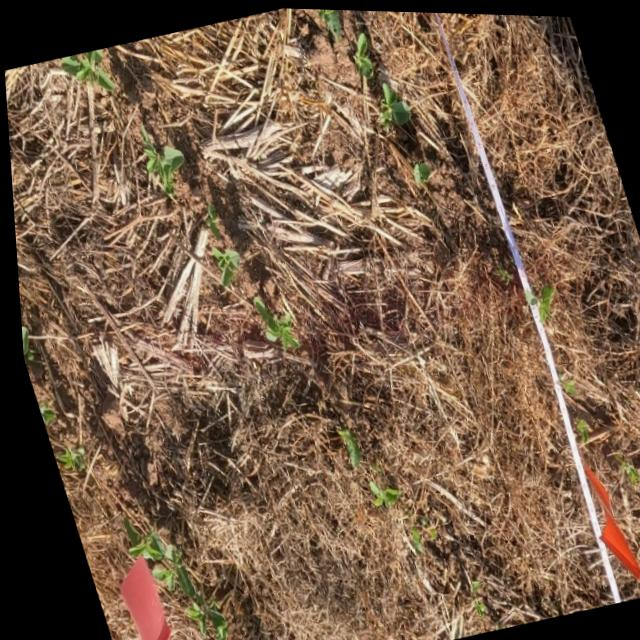soy_plant: (126, 530, 220, 640), (140, 127, 182, 198), (247, 294, 295, 350), (60, 48, 113, 90), (378, 80, 408, 125), (207, 243, 237, 286), (351, 30, 374, 80), (333, 426, 356, 464), (362, 479, 394, 504), (49, 447, 82, 470), (318, 7, 342, 34), (609, 451, 631, 480), (202, 202, 219, 239), (531, 282, 551, 312), (462, 577, 478, 612), (410, 158, 430, 184), (33, 403, 49, 425), (17, 328, 26, 359), (571, 416, 583, 437), (561, 378, 570, 389)
